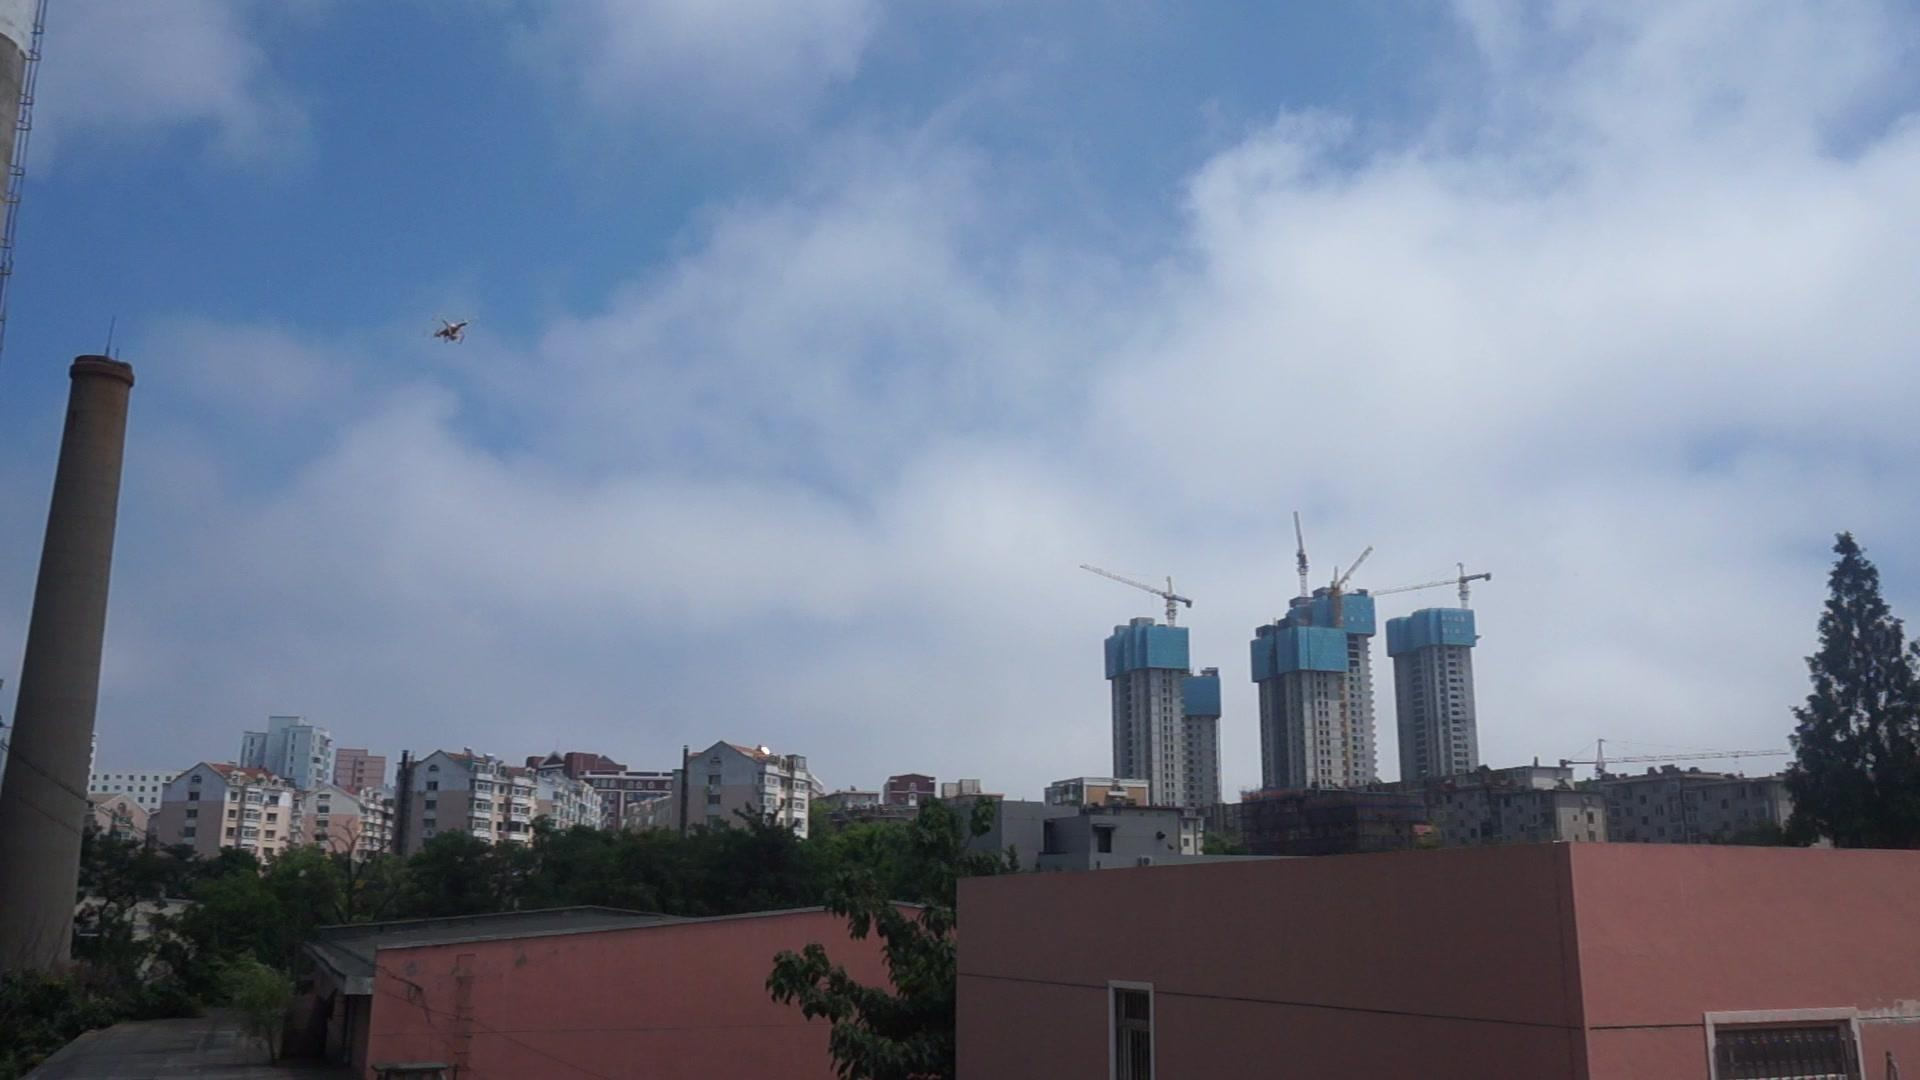UAV: (421, 313, 481, 345)
